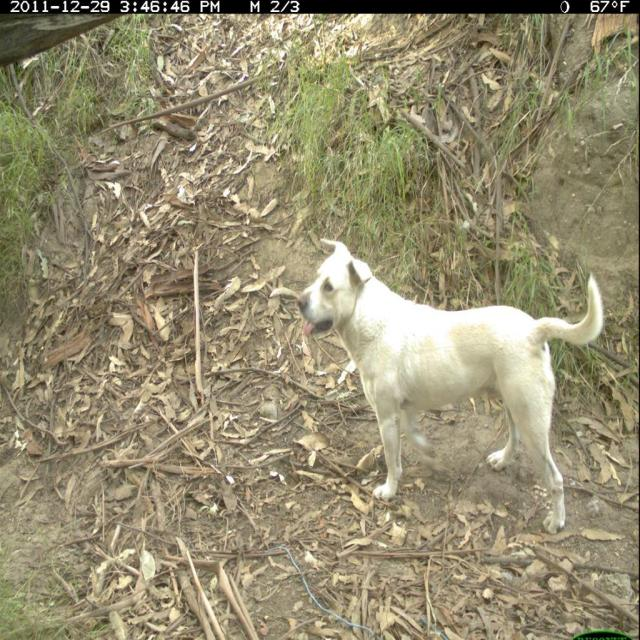dog: (297, 229, 614, 546)
